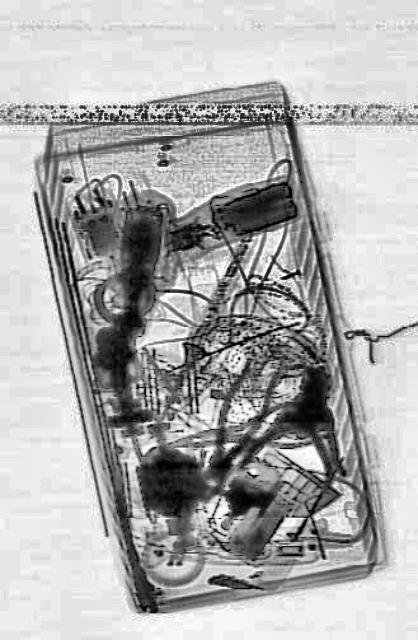Pliers: (192, 336, 286, 496), (160, 389, 332, 473)
